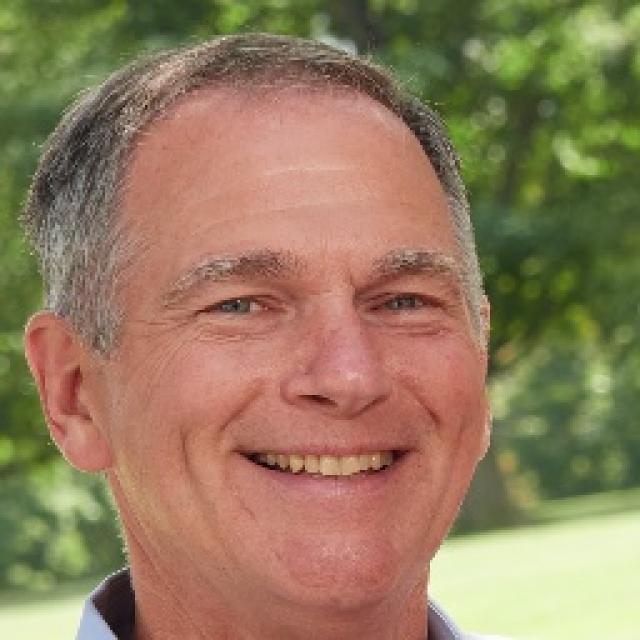earlobe: (26, 310, 112, 476), (471, 290, 496, 462)
